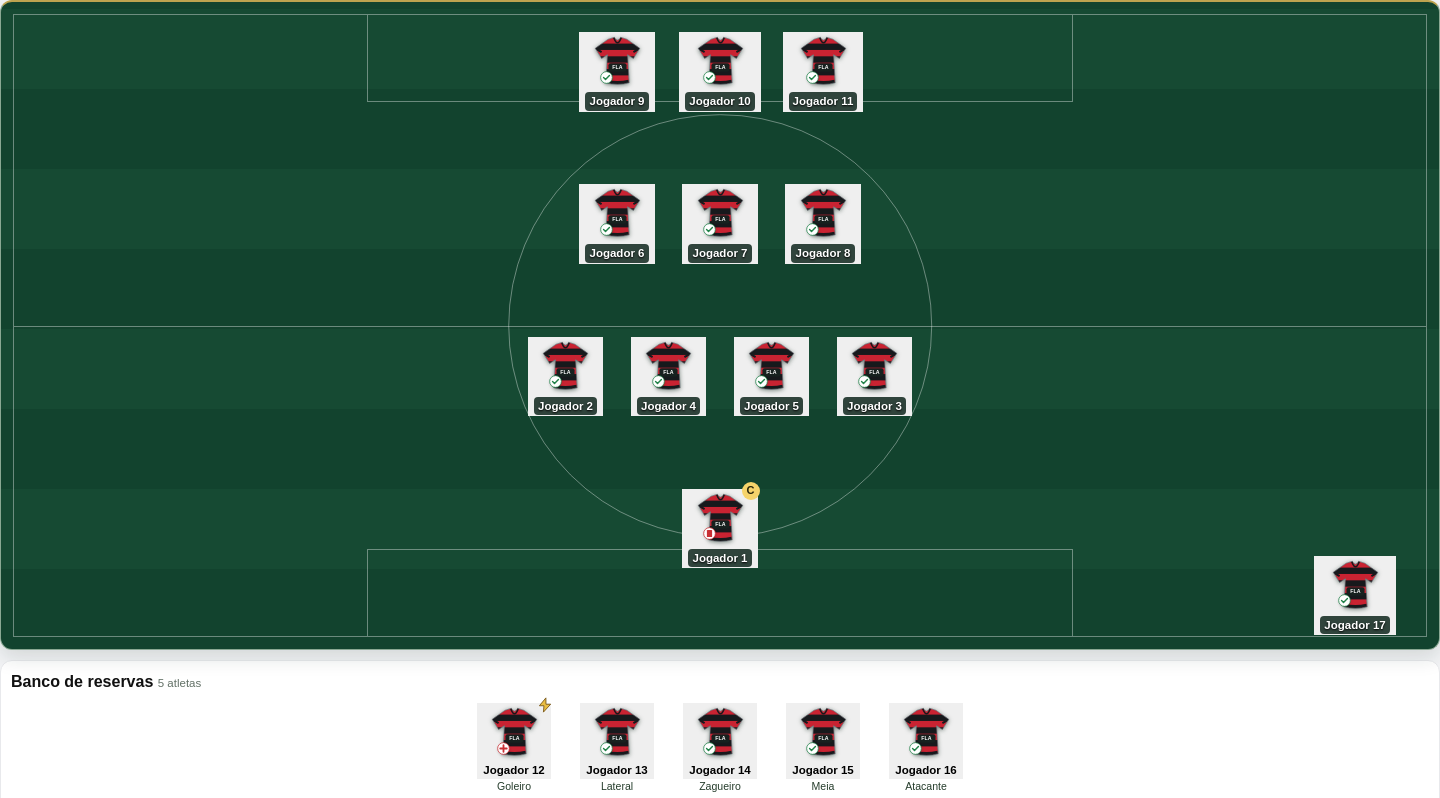
Test: Pitch and formations › shows suspended and injured indicators without replacing captain or Reserva Power badges
Expected: the picture named "Suspenso" is shown, [703, 528, 716, 540]
Expected: the picture named "Contundido" is shown, [497, 742, 510, 755]
What coordinates should you click on to do the following:
click the button with aria-label "Ações de Jogador 1"
I would click on:
 (720, 529)
Its box is [682, 489, 758, 568].
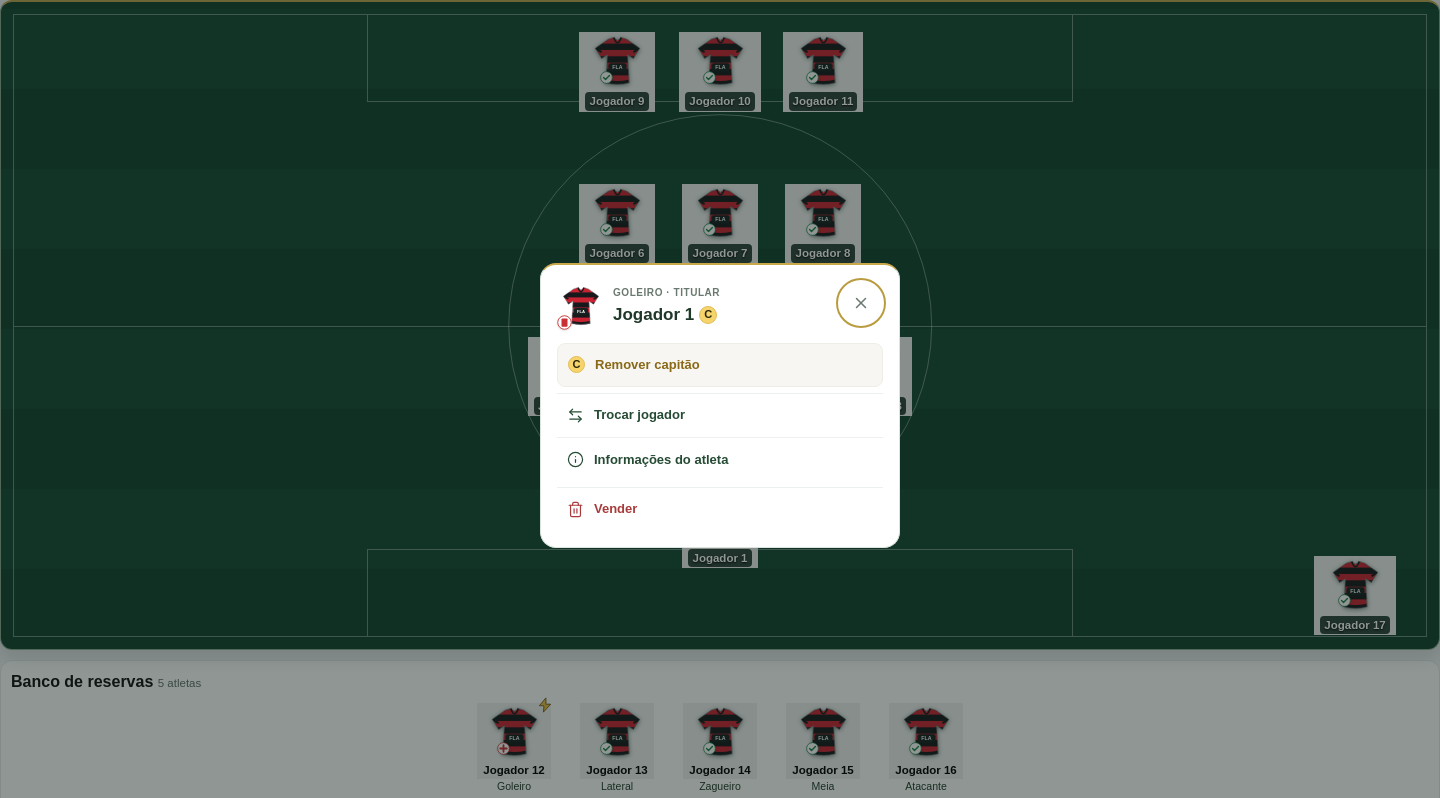
Result: the picture named "Suspenso" is shown at [557, 314, 572, 330]
What coordinates should you click on to do the following:
click the button named "Fechar ações"
I would click on:
 (861, 302)
Its box is [839, 280, 883, 324].
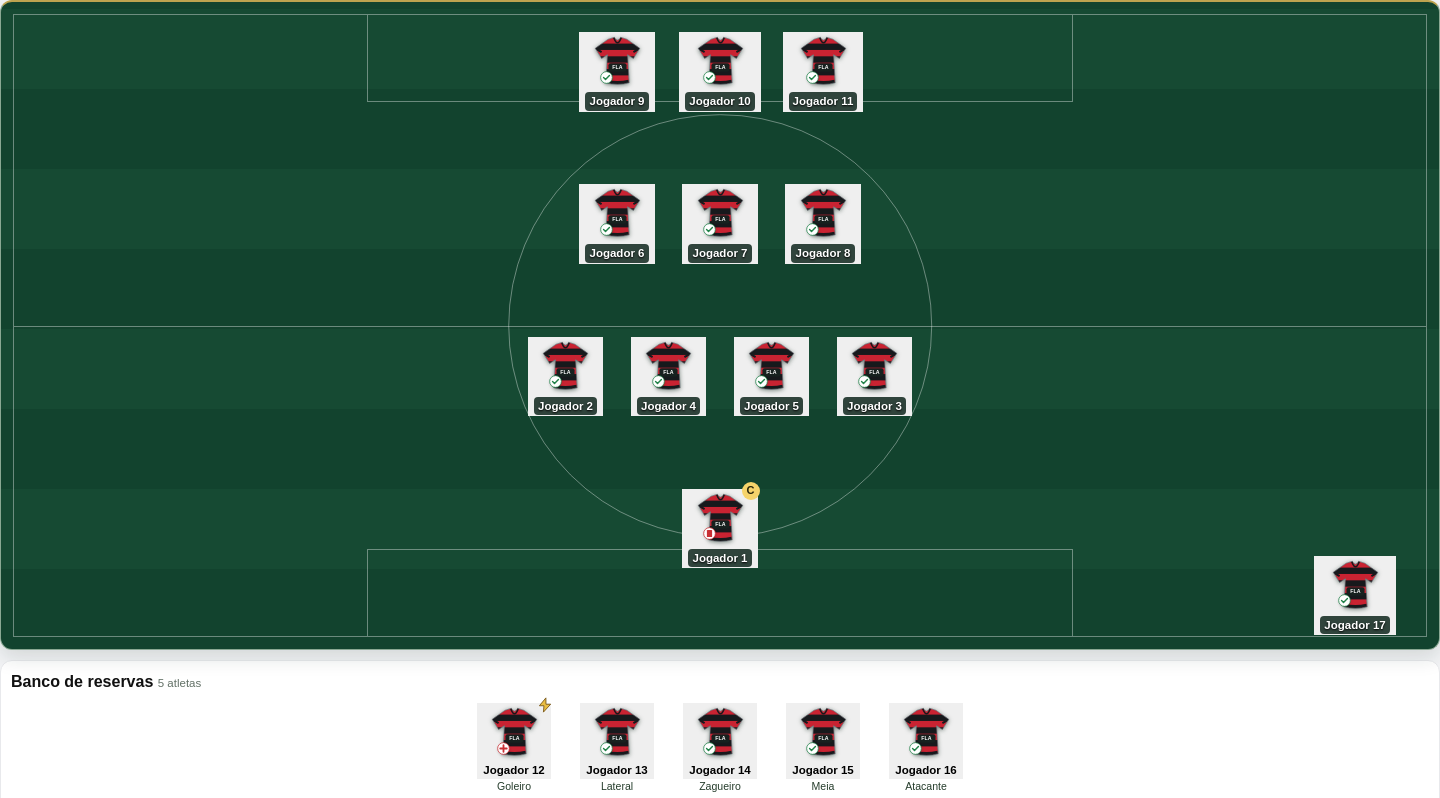
What coordinates should you click on to do the following:
click the button with aria-label "Ações de Jogador 12"
I would click on:
 (514, 741)
Its box is [477, 703, 551, 778].
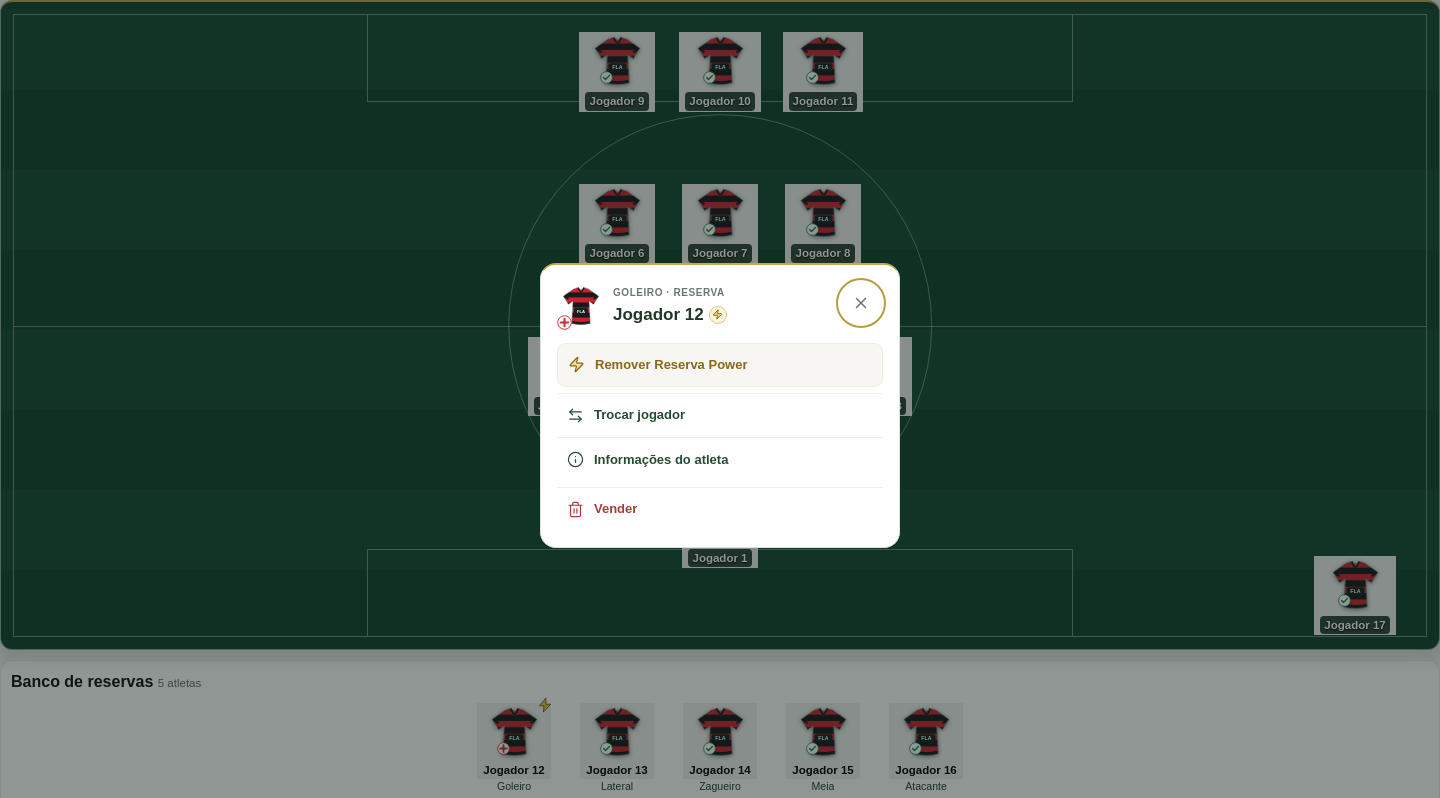
Result: the picture named "Contundido" is shown at [557, 314, 572, 330]
